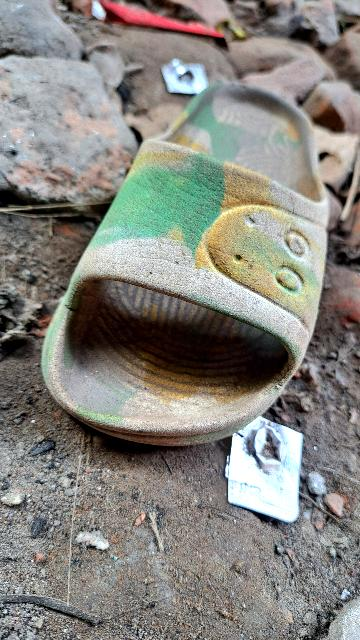sandal: (7, 54, 360, 540)
